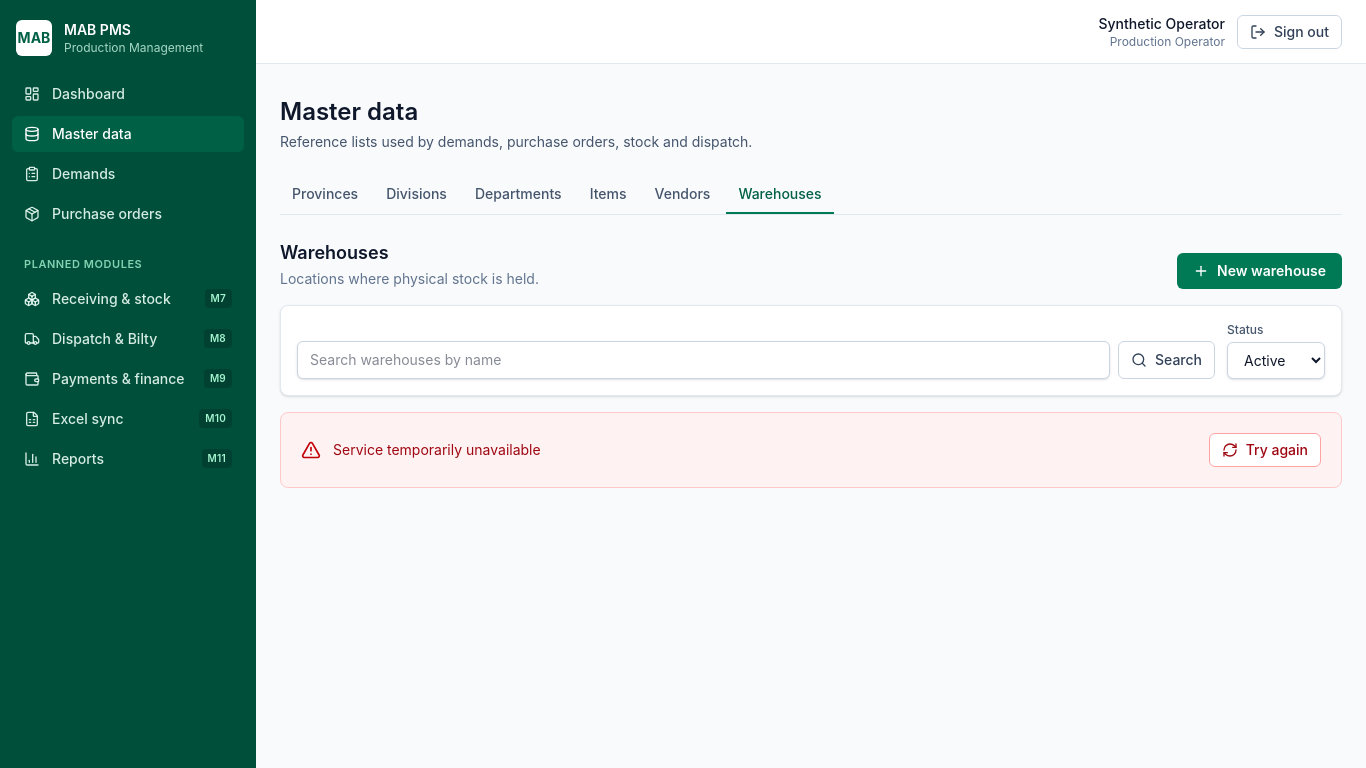
Test: Master data — navigation and lists › shows an error state with a working retry
Expected: the message shows "Service temporarily unavailable", [333, 441, 541, 458]
Click the button "Try again".
click(1265, 450)  # box [1209, 433, 1321, 467]
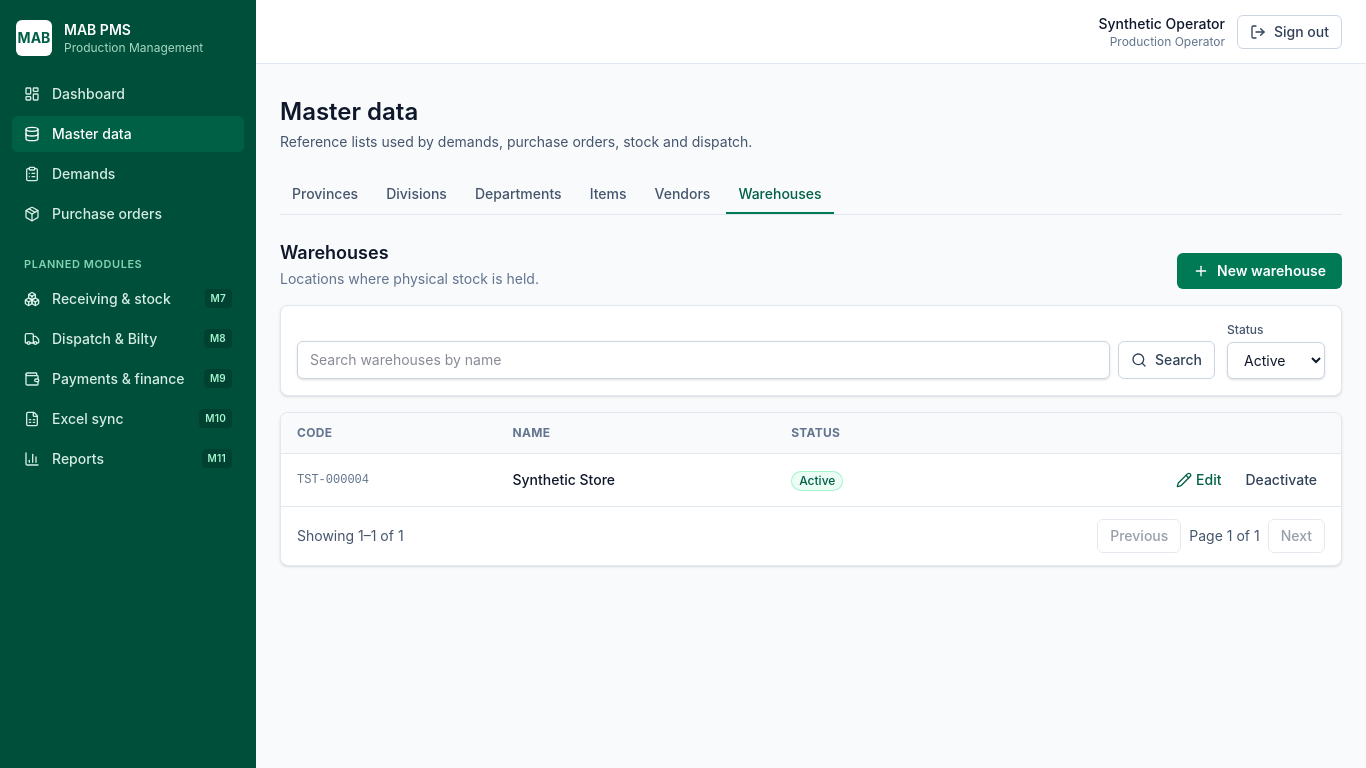
Expected: the cell "Synthetic Store" is shown, [496, 454, 775, 506]
